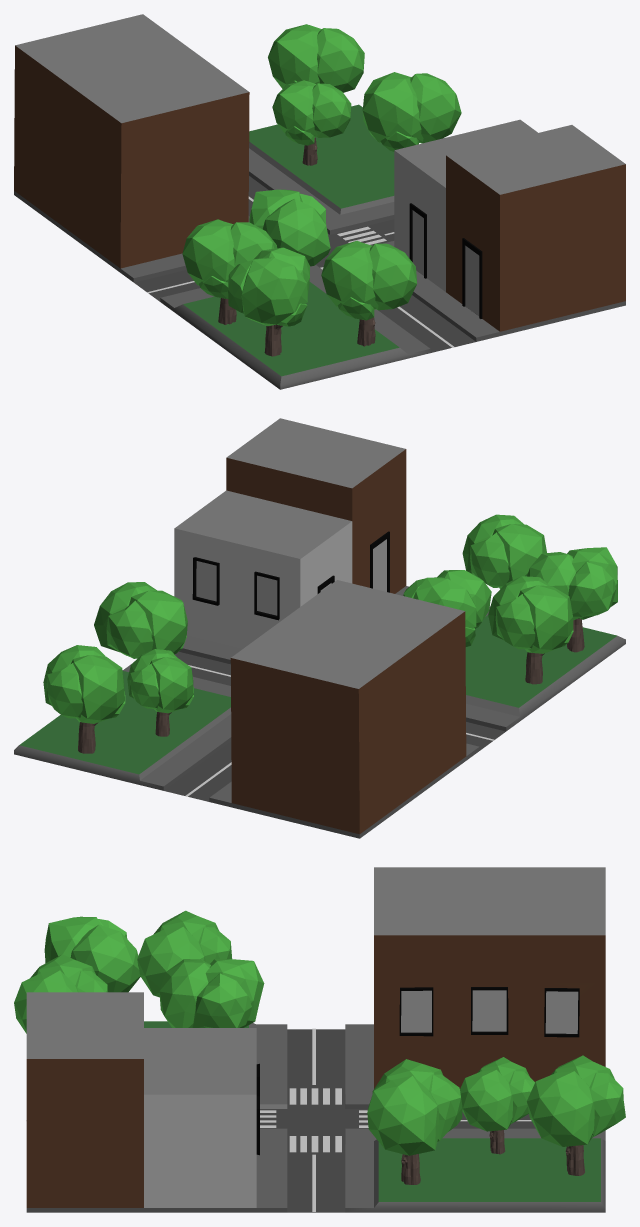
File: crossroad_map.fbx
3 views of the same model, one above another, from view 1: azimuth 30°, elevation 25°; view 2: azimuth 150°, elevation 25°; view 3: azimuth 270°, elevation 25° (orthographic). The views are drawn at different scales.
Visible parts, largest first — view 1: polySurface1, tree5, tree, tree6, tree1, tree4, tree2, tree3; view 2: polySurface1, tree4, tree1, tree, tree6, tree5, tree2, tree3; view 3: polySurface1, tree, tree1, tree3, tree6, tree2, tree4, tree5.
Part boxes in pixels (x1,y1,x2,y2): polySurface1: (14,14,625,389); tree5: (321,240,417,346); tree: (362,72,461,151); tree6: (228,247,309,356); tree1: (268,24,364,92); tree4: (182,219,277,324); tree2: (272,80,351,165); tree3: (249,189,330,266); polySurface1: (14,418,625,838); tree4: (488,576,573,684); tree1: (43,645,125,753); tree: (94,582,187,658); tree6: (527,547,617,652); tree5: (462,514,546,588); tree2: (127,649,193,736); tree3: (403,570,491,646); polySurface1: (26,867,605,1212); tree: (367,1059,462,1184); tree1: (526,1055,625,1175); tree3: (159,959,264,1027); tree6: (44,916,140,992); tree2: (460,1057,534,1154); tree4: (137,910,232,997); tree5: (14,954,107,1033).
Bounding box in the file's own units: 242 × 93.32 × 319.
